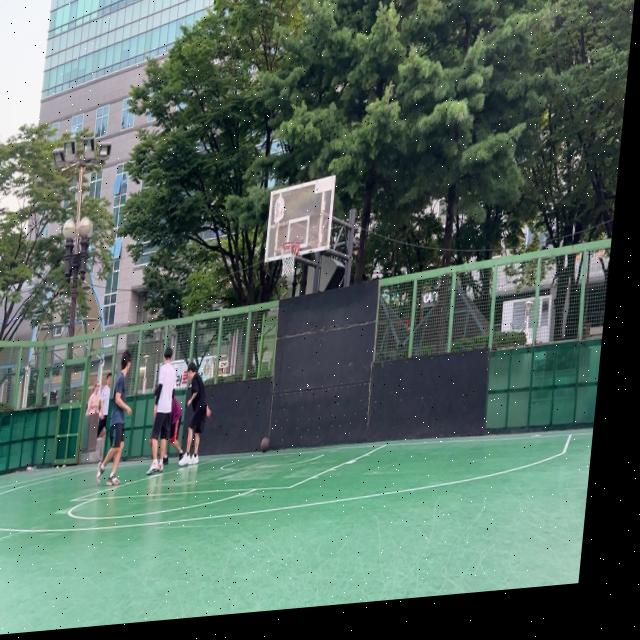basketball: (259, 436, 271, 453)
hoop: (277, 241, 300, 278)
